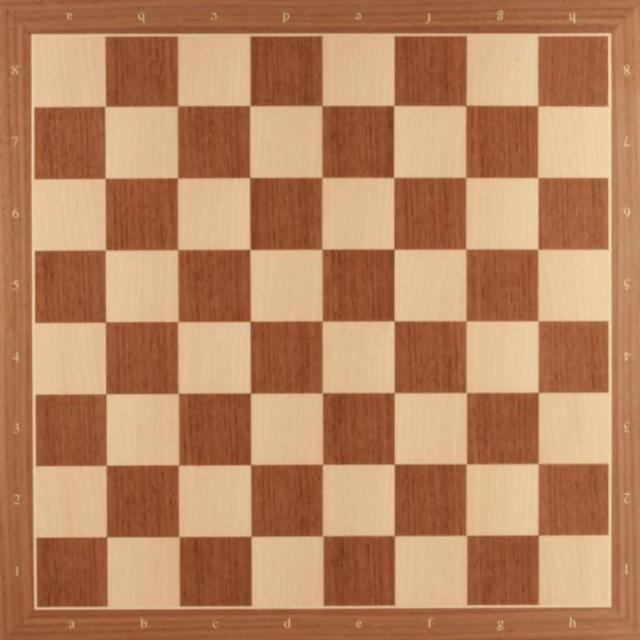chess-table-corners: (10, 9, 58, 61), (583, 19, 628, 62), (10, 584, 57, 624), (585, 584, 631, 624)
